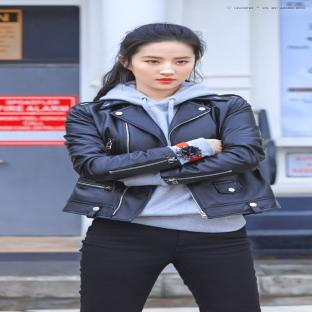Human: (64, 23, 278, 312)
